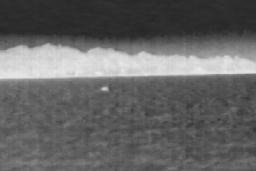Target: (102, 87, 108, 90)
